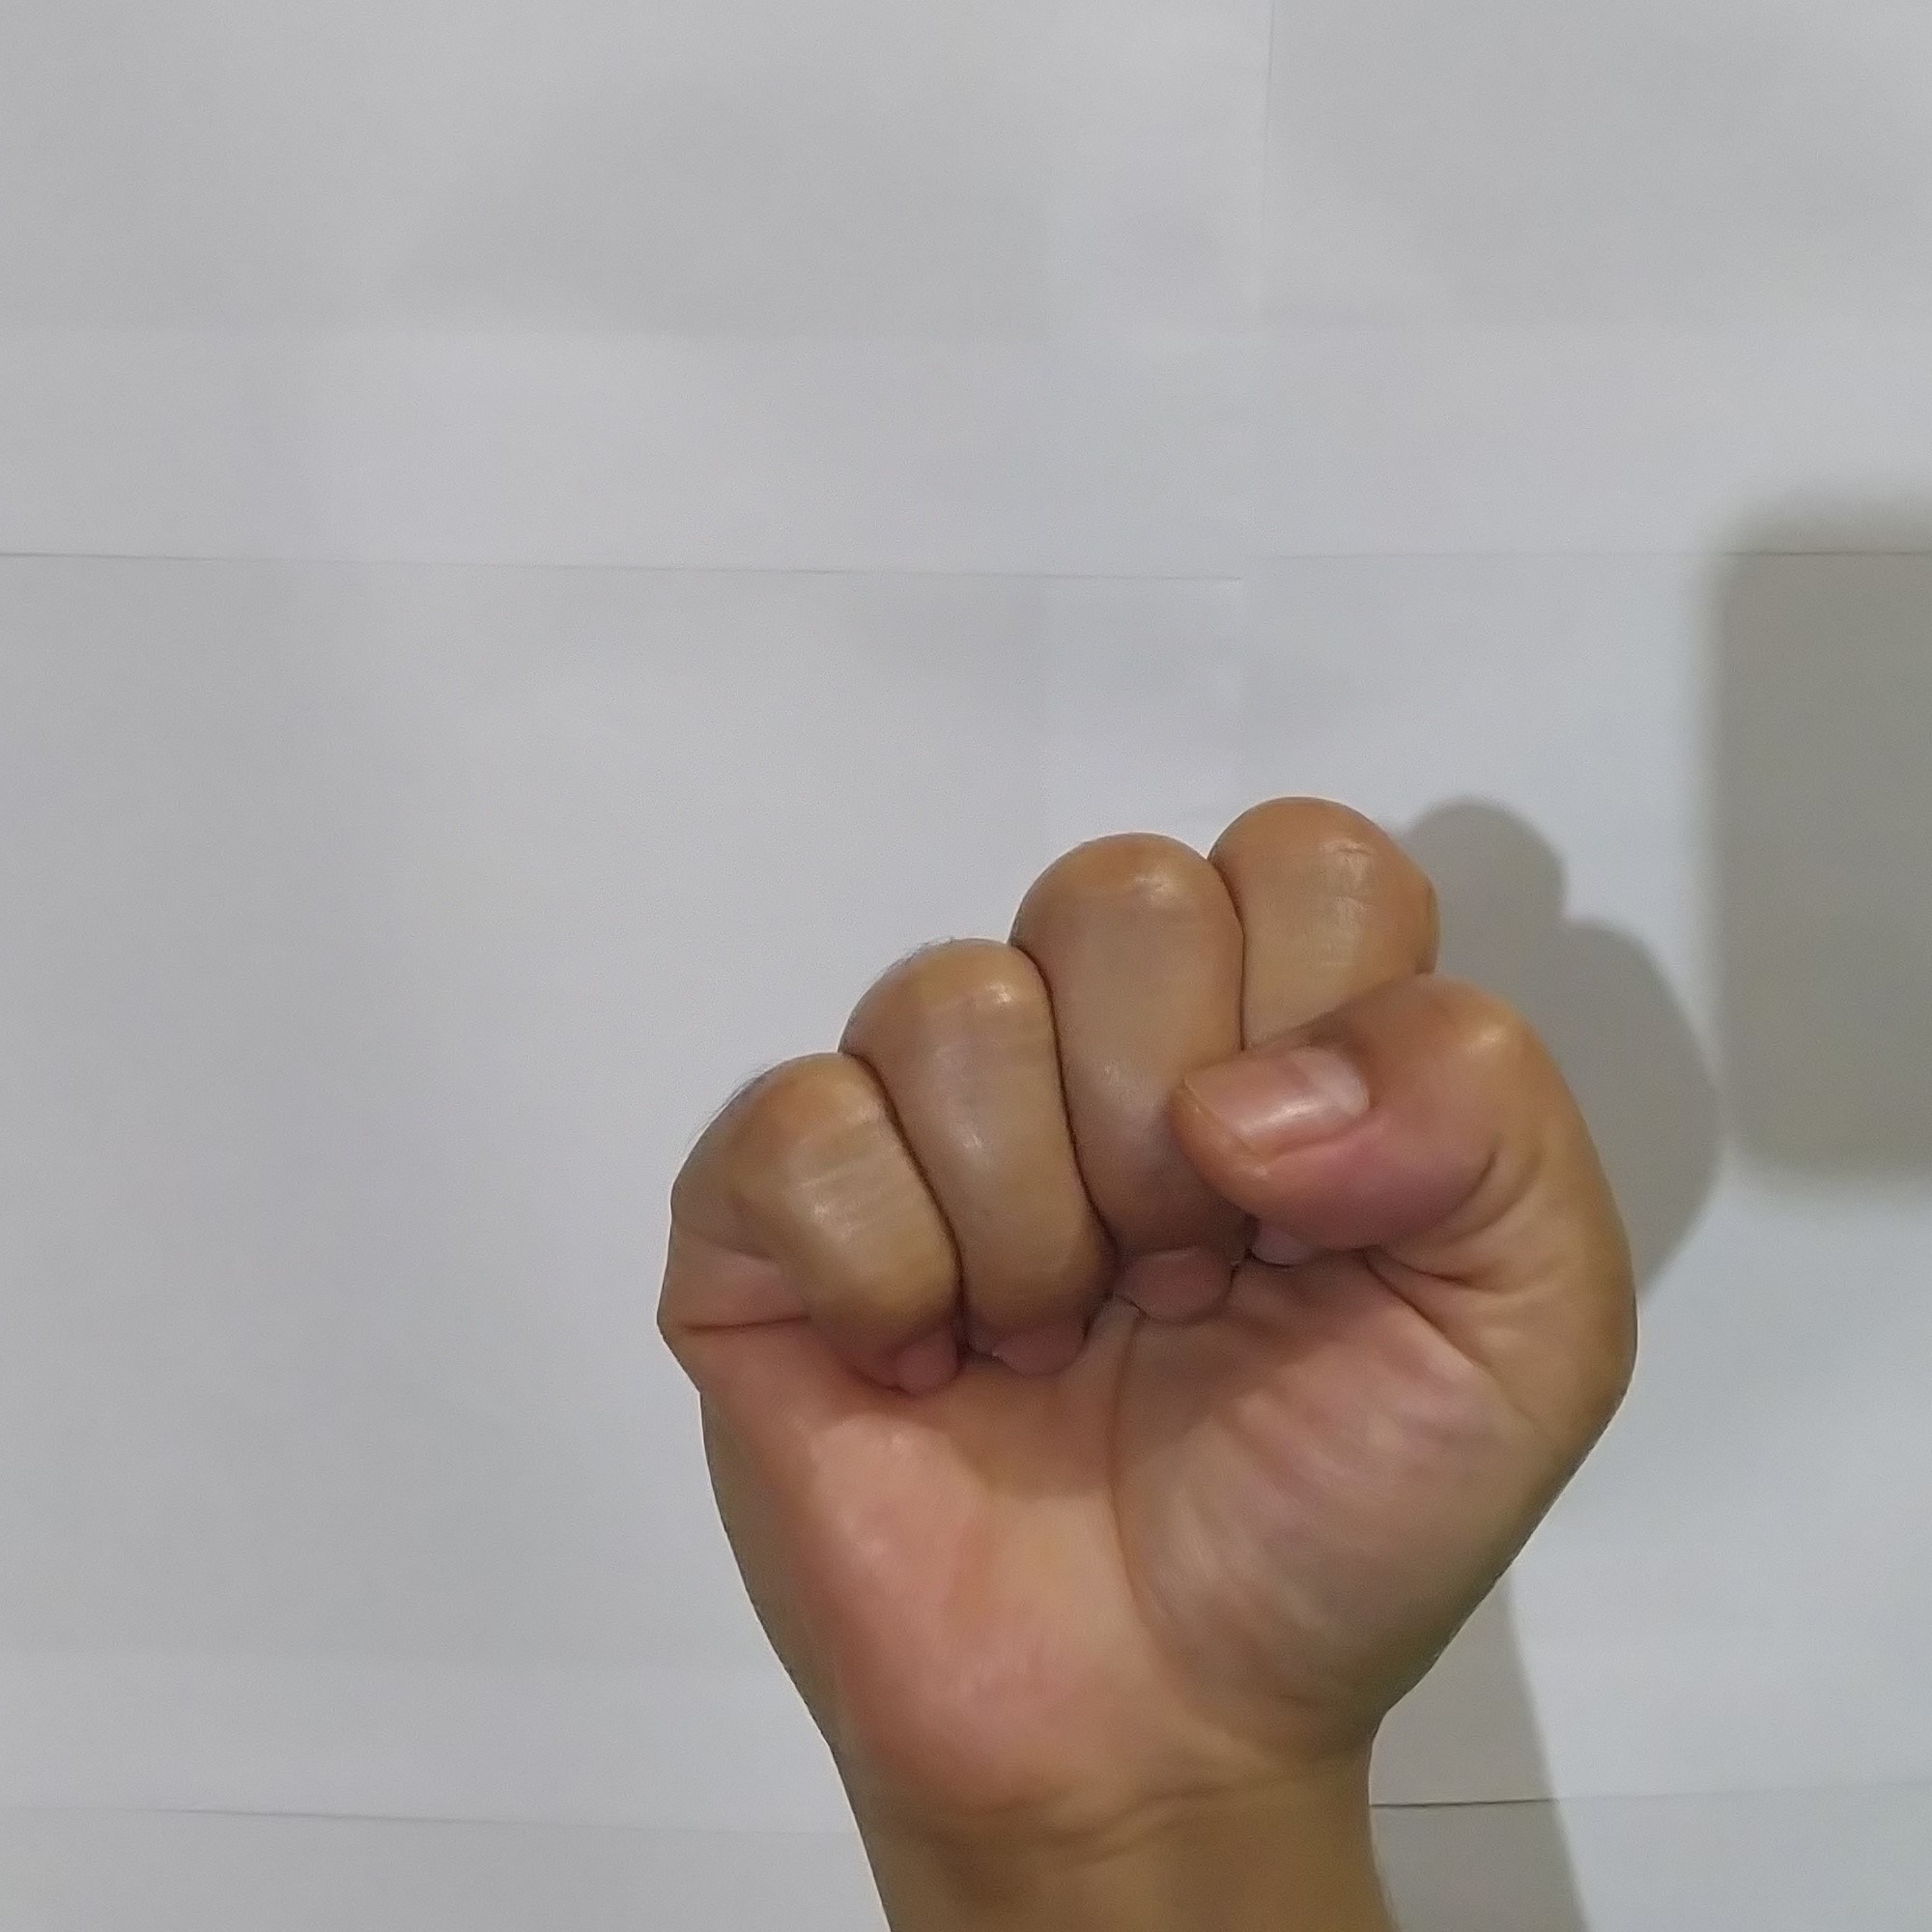S: (619, 768, 1672, 1798)
